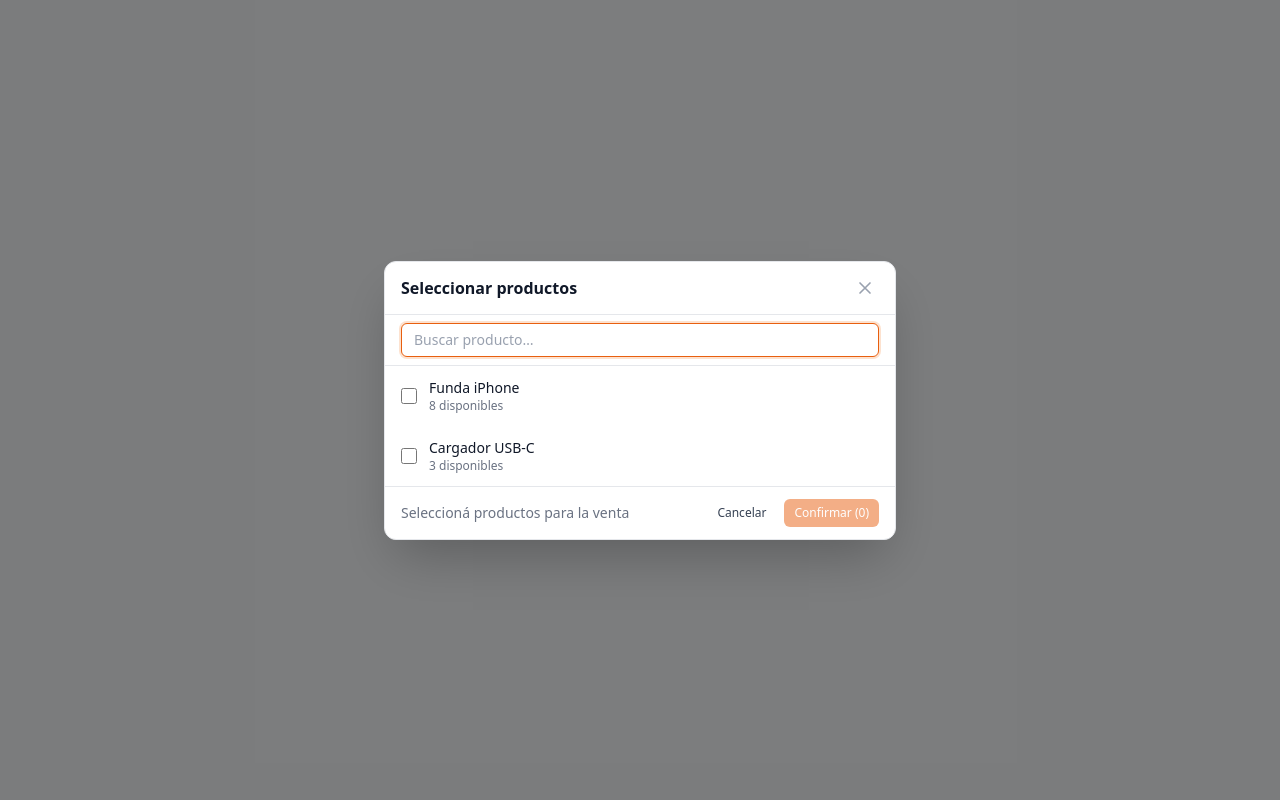
Test: SaleNewModal › cancelar el picker vuelve a la modal de venta sin cerrar la venta
Check: the text "Funda iPhone" is shown, box [429,378,519,396]
What coordinates should you click on to do the following:
click the checkbox labelled "Funda iPhone 8 disponibles"
I would click on:
 (409, 396)
Its box is [401,388,417,404].
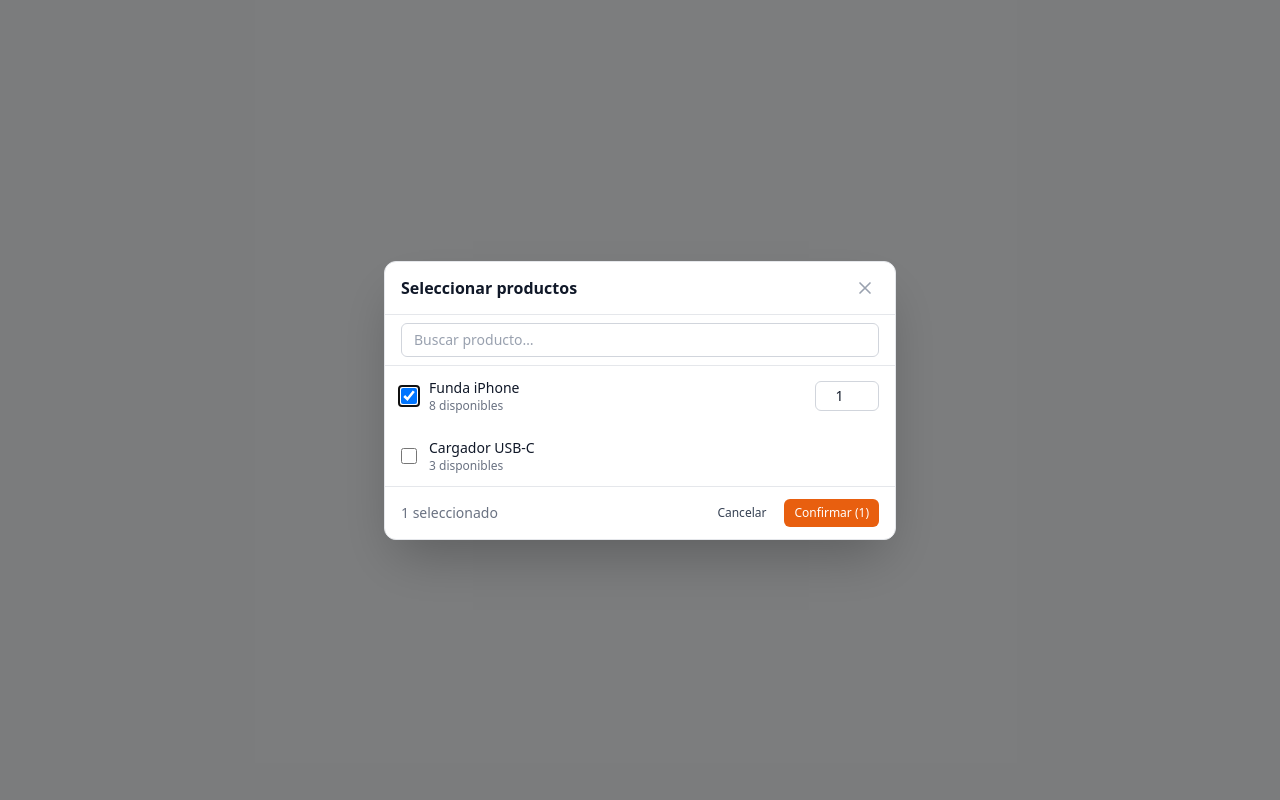
What coordinates should you click on to do the following:
click the button "Confirmar (1)"
I would click on:
 (832, 512)
Its box is [784,498,879,526].
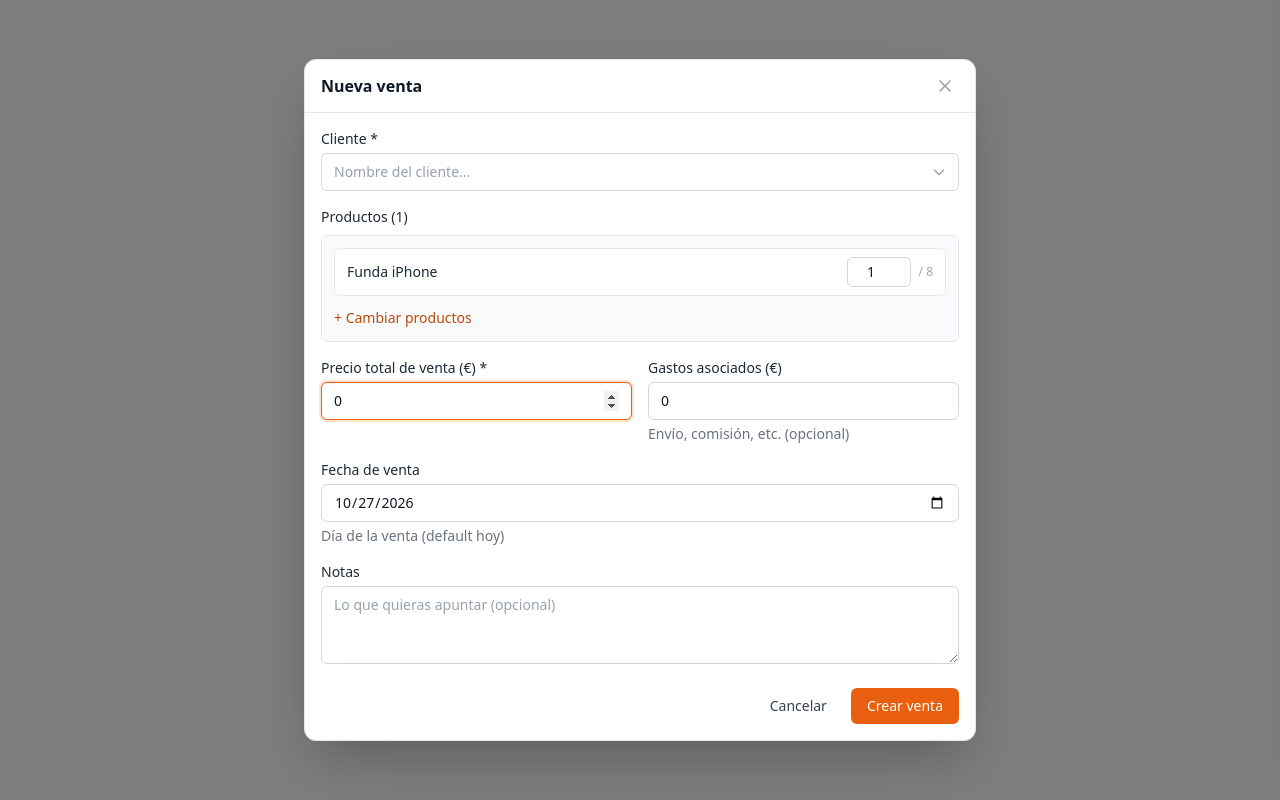
Check: the heading "Nueva venta" is shown, box [321,74,422,98]
What coordinates should you click on to do the following:
click the button "+ Cambiar productos"
I would click on:
 (403, 318)
Its box is [334,308,472,328].
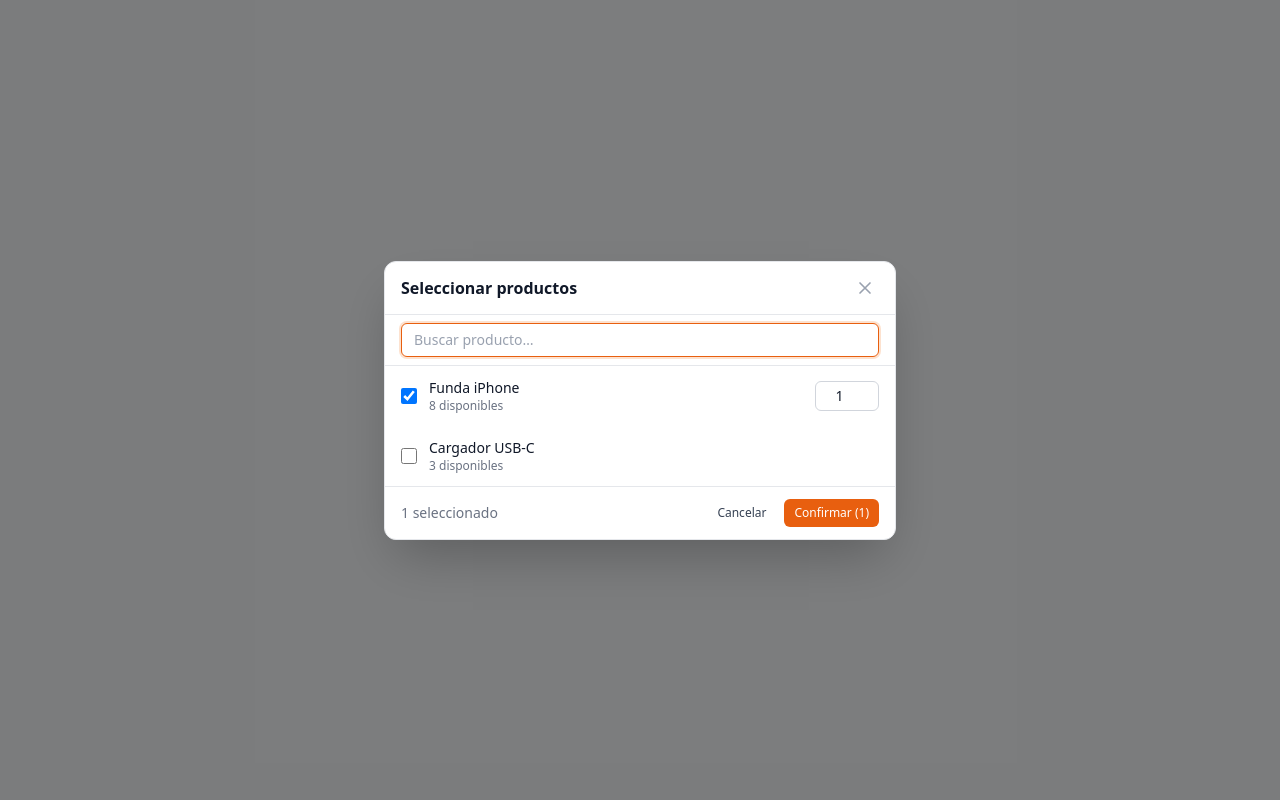
Check: the heading "Seleccionar productos" is shown, box [401,276,577,300]
What coordinates should you click on to do the following:
click the button "Cancelar"
I would click on:
 (742, 512)
Its box is [707,498,776,526].
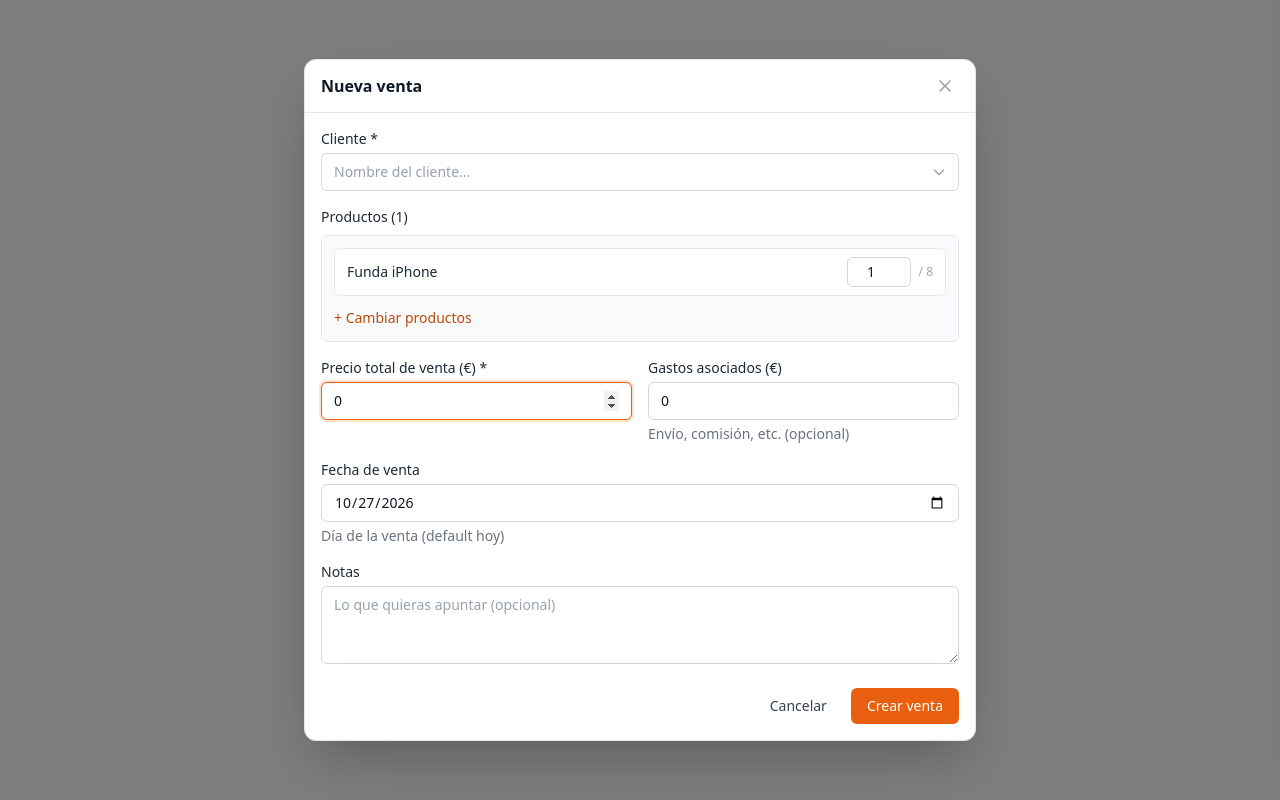
Check: the heading "Nueva venta" is shown, box [321,74,422,98]
Check: the text "Productos (1)" is shown, box [321,207,408,227]
